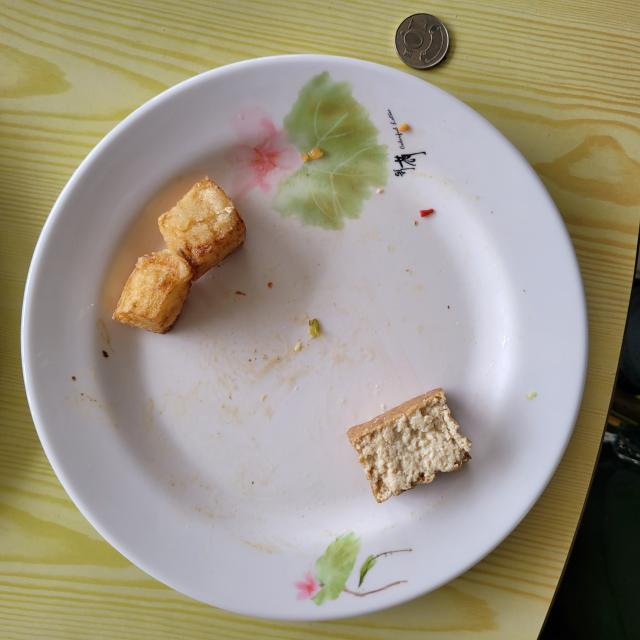coin: (395, 14, 449, 69)
egg tofu: (348, 388, 471, 502)
fried potato: (112, 178, 246, 334)
